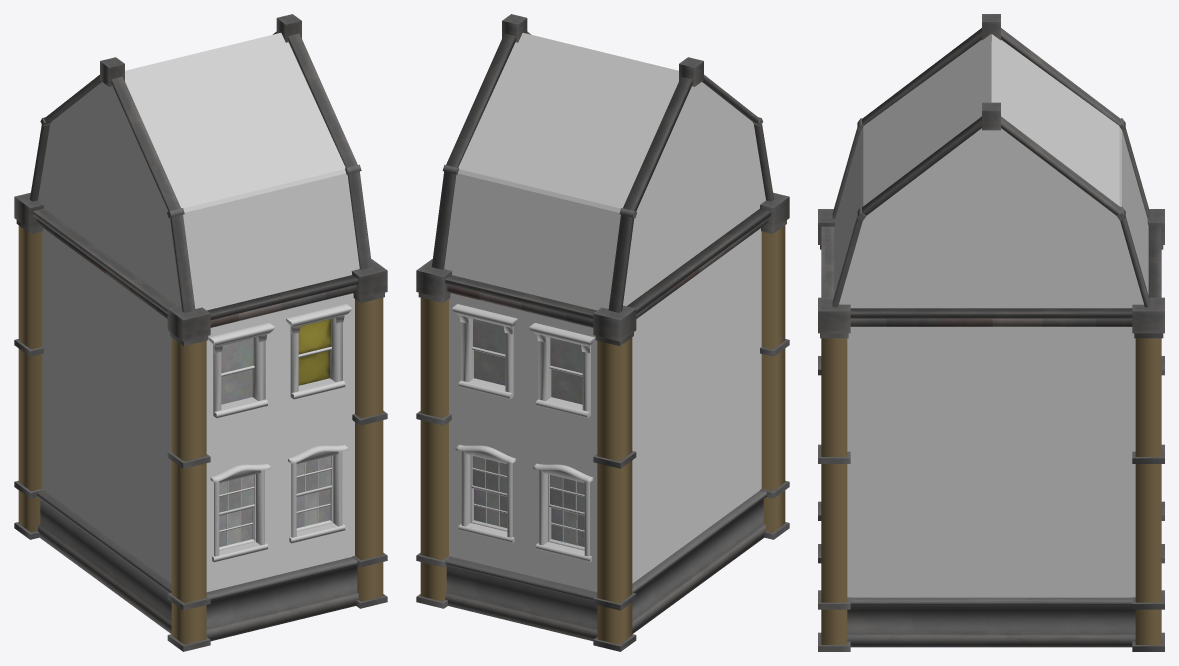
Rendered from Building_09.fbx.
3 renders of one model, left to right at view 1: azimuth 30°, elevation 25°; view 2: azimuth 150°, elevation 25°; view 3: azimuth 270°, elevation 25°, orthographic. The views are drawn at different scales.
Visible parts, largest first — view 1: Wall_01.007, Wall_03.008, Roof_01.013, Wall_02.006, Roof_01.014; view 2: Wall_02.006, Wall_03.008, Roof_01.014, Wall_01.007, Roof_01.013; view 3: Wall_04.002, Roof_01.013, Roof_01.014, Wall_02.006, Wall_01.007.
Part boxes in pixels (left/top/right/bottom): Wall_01.007: left=167, top=292, right=387, bottom=651; Wall_03.008: left=33, top=82, right=180, bottom=633; Roof_01.013: left=100, top=14, right=387, bottom=341; Wall_02.006: left=14, top=220, right=43, bottom=539; Roof_01.014: left=14, top=31, right=276, bottom=229; Wall_02.006: left=416, top=292, right=636, bottom=651; Wall_03.008: left=623, top=82, right=770, bottom=633; Roof_01.014: left=416, top=33, right=692, bottom=341; Wall_01.007: left=760, top=220, right=789, bottom=539; Roof_01.013: left=502, top=14, right=789, bottom=229; Wall_04.002: left=839, top=128, right=1143, bottom=647; Roof_01.013: left=818, top=14, right=1000, bottom=333; Roof_01.014: left=991, top=28, right=1164, bottom=333; Wall_02.006: left=1132, top=245, right=1164, bottom=651; Wall_01.007: left=818, top=245, right=850, bottom=651.
Size of what is drawn, in the model's own units: 4.62 by 11.34 by 6.62.
